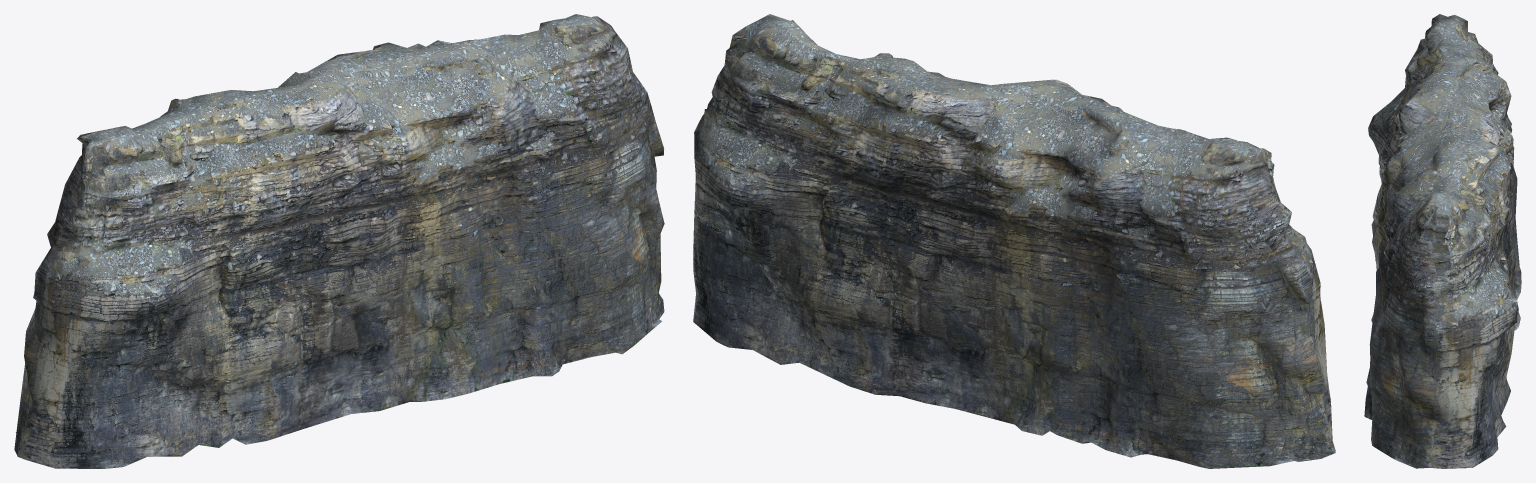
The model's file is SM_wall3.fbx.
3 renders of one model, left to right at view 1: azimuth 30°, elevation 25°; view 2: azimuth 150°, elevation 25°; view 3: azimuth 270°, elevation 25°, orthographic. The views are drawn at different scales.
Parts seen in each view (by area): view 1: SM_wall3; view 2: SM_wall3; view 3: SM_wall3.
Part boxes in pixels (x1=…): SM_wall3: x1=14, y1=14, x2=664, y2=468; SM_wall3: x1=693, y1=14, x2=1335, y2=468; SM_wall3: x1=1364, y1=14, x2=1521, y2=468.
Bounding box in the file's own units: 2857 × 1324 × 755.
